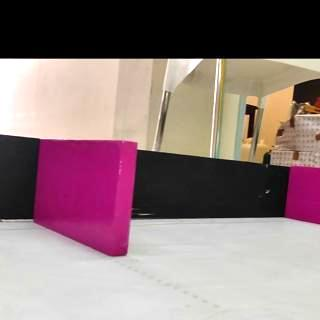xparking: (41, 141, 136, 257), (291, 164, 320, 224)
